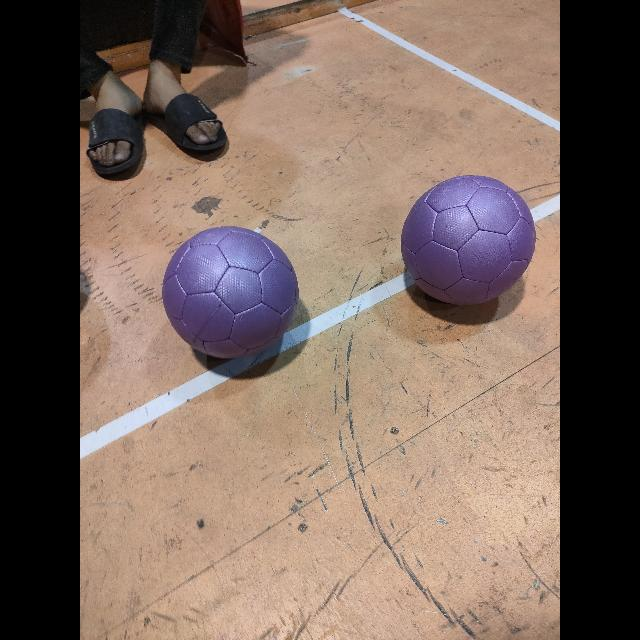P: (163, 225, 299, 358), (400, 175, 536, 305)
